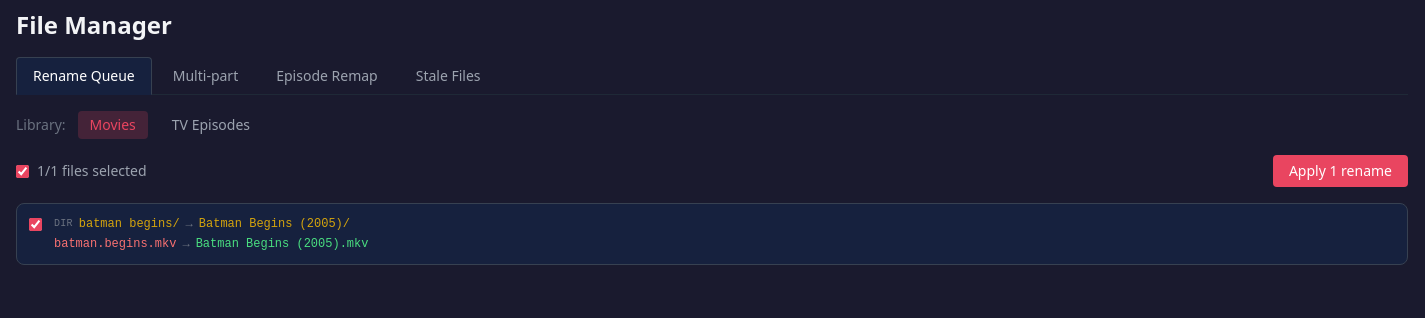
Test: FilesPage › Rename Queue tab › shows error message on rename failure
This screenshot has width=1425, height=318.
Check: the text "batman.begins.mkv" is shown, box [54, 236, 176, 252]
Click the button "Apply 1 rename".
click(1340, 171)  # box [1273, 155, 1408, 187]
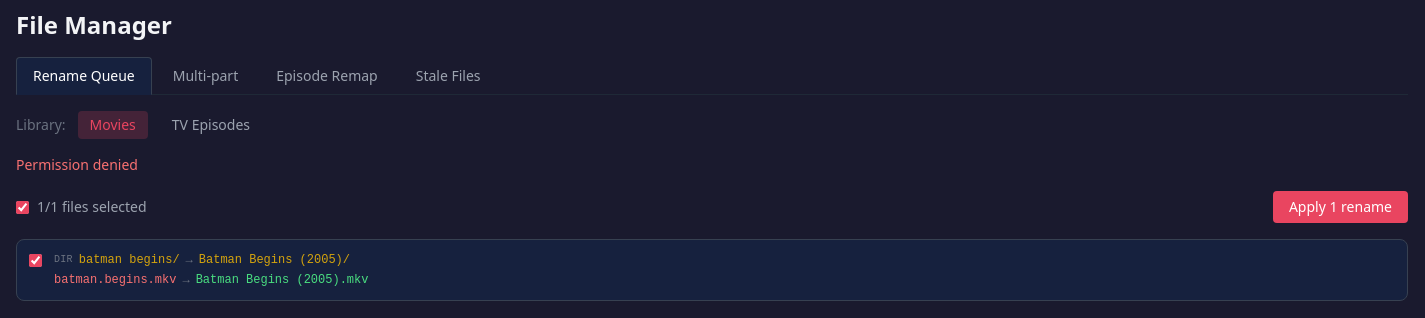
Check: the text "Permission denied" is shown, box [16, 155, 138, 174]
